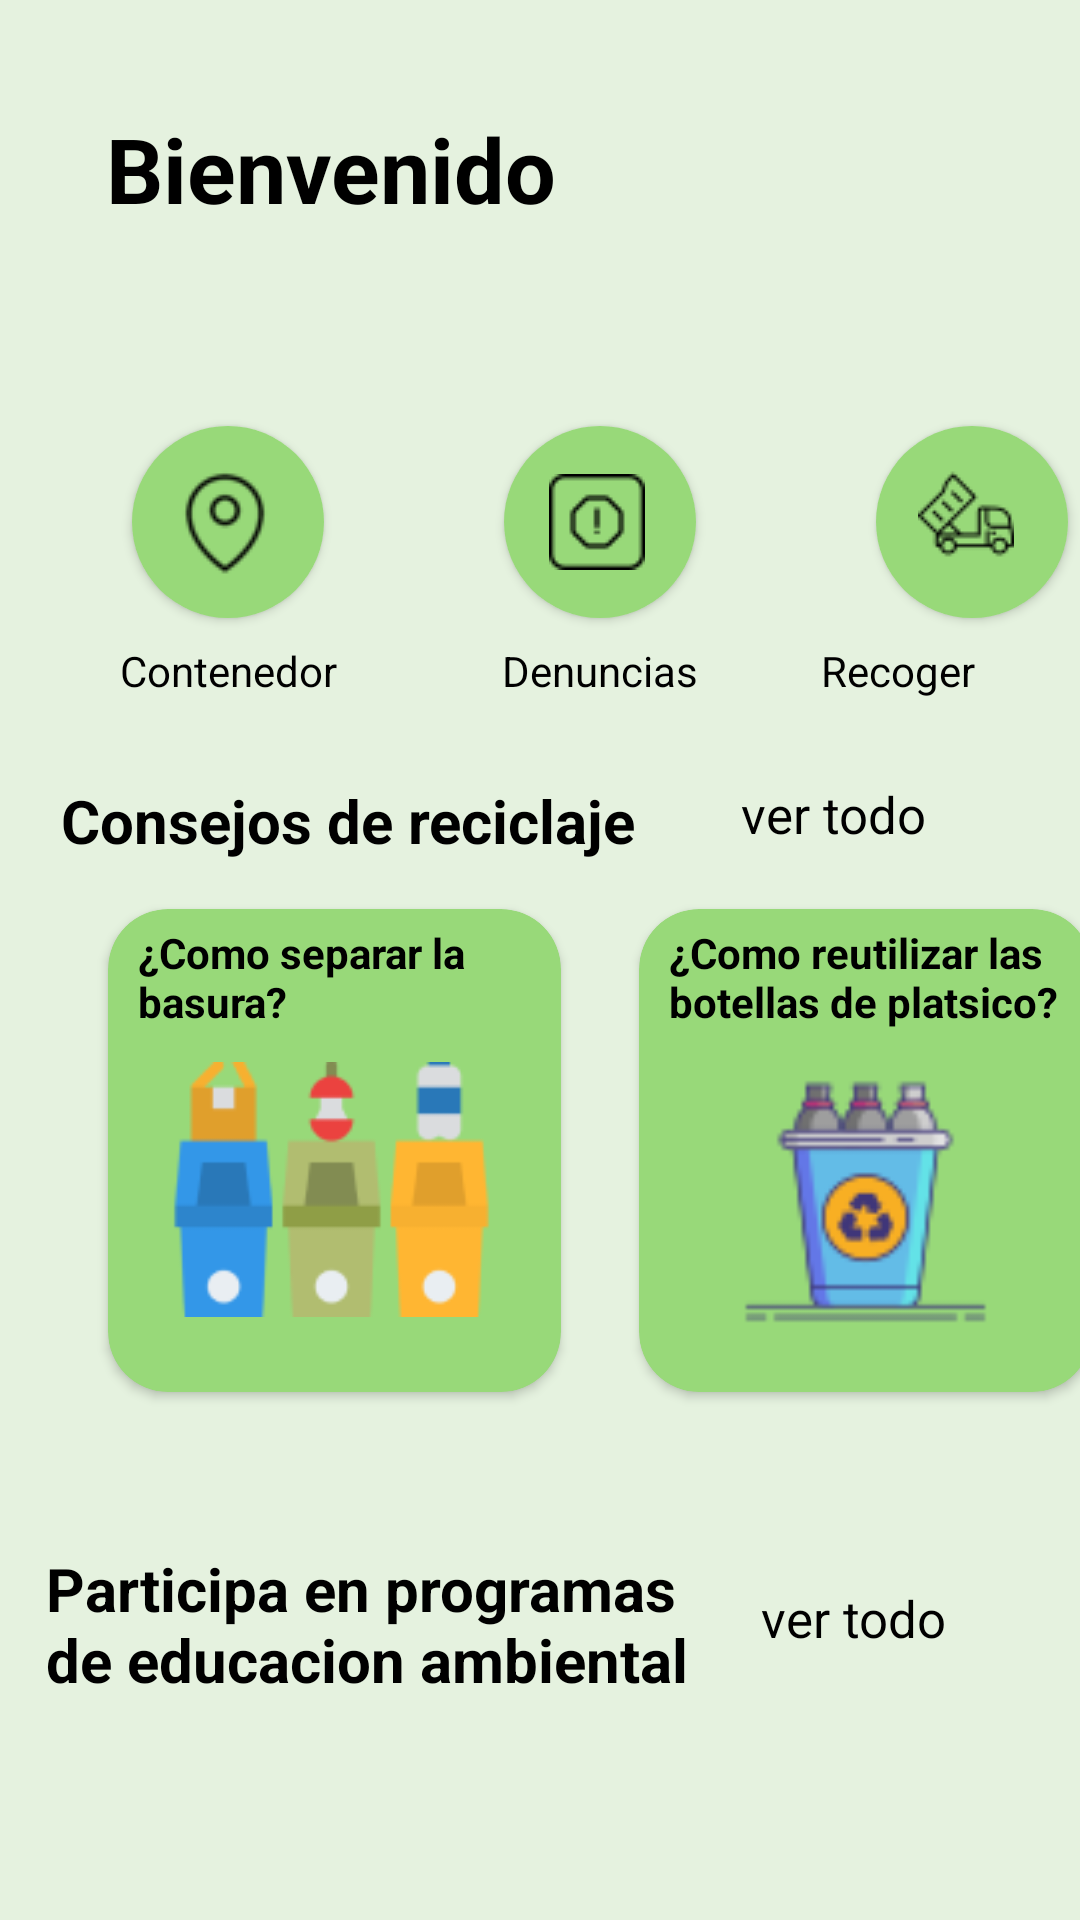

Screen size 1080 x 1920. Icon name, then its center in pixels as point (x, y):
reciclaje: point (331, 1189), point (865, 1201)
